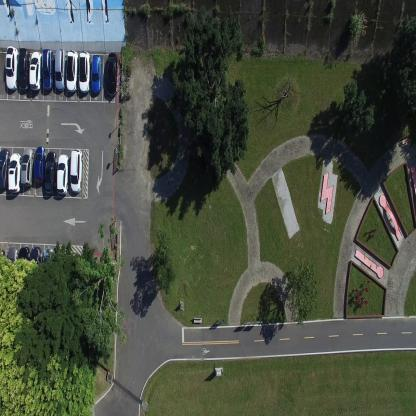car: (69, 150, 83, 193), (5, 45, 18, 90), (20, 147, 34, 188), (17, 47, 30, 91), (43, 151, 56, 195), (29, 245, 42, 289), (106, 51, 118, 98), (56, 154, 69, 196), (66, 49, 78, 93), (54, 48, 66, 92), (8, 152, 21, 192), (42, 49, 54, 92), (42, 247, 54, 290), (29, 51, 42, 90), (7, 245, 18, 291), (18, 245, 30, 287), (79, 49, 90, 94), (91, 54, 103, 95), (34, 145, 45, 185), (0, 147, 10, 189), (0, 247, 6, 293)
